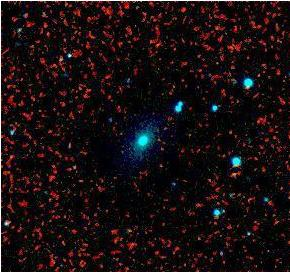star: (233, 216, 263, 246)
